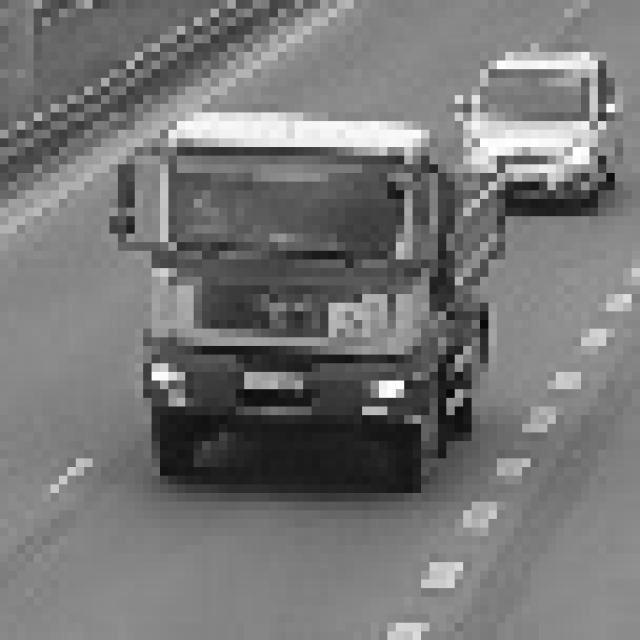truck: (111, 96, 466, 468)
